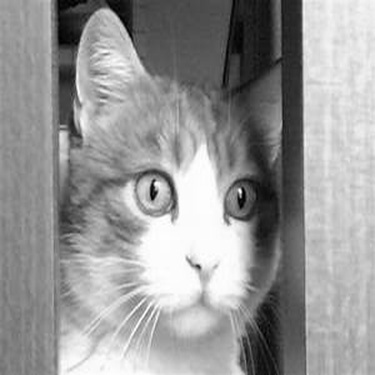cat: (54, 5, 295, 367)
